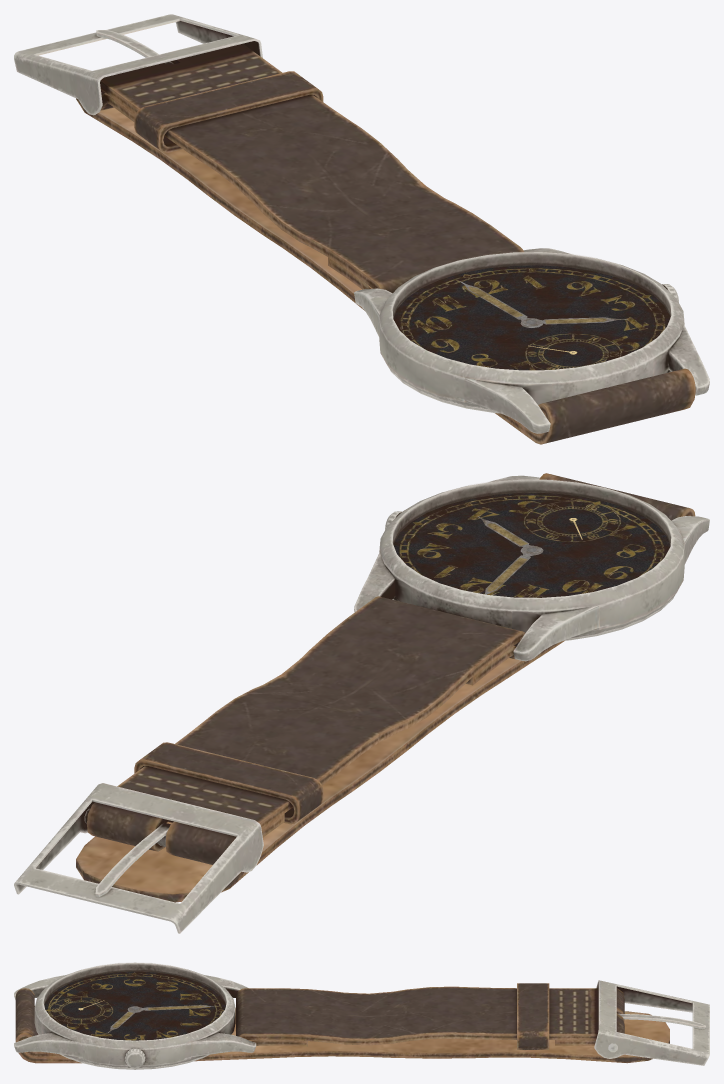
Rendered from vintage-leather-watch.glb.
3 views of the same model, one above another, from view 1: azimuth 30°, elevation 25°; view 2: azimuth 150°, elevation 25°; view 3: azimuth 270°, elevation 25° (orthographic). The views are drawn at different scales.
Visible parts, largest first — view 1: strap1_r_low, body_r_low, strap2_r_low, holder1_r_low; view 2: strap1_r_low, body_r_low, holder1_r_low, strap2_r_low; view 3: strap1_r_low, body_r_low, strap2_r_low, holder1_r_low, crown_r_low, minute_hand_r_low, hour_hand_r_low.
Boxes of the visible parts, bbox=[...] form: strap1_r_low: bbox=[100, 43, 523, 293]; body_r_low: bbox=[354, 248, 709, 433]; strap2_r_low: bbox=[76, 98, 695, 444]; holder1_r_low: bbox=[14, 14, 262, 115]; strap1_r_low: bbox=[87, 596, 525, 864]; body_r_low: bbox=[354, 475, 709, 661]; holder1_r_low: bbox=[14, 783, 263, 933]; strap2_r_low: bbox=[76, 473, 695, 902]; strap1_r_low: bbox=[236, 983, 624, 1049]; body_r_low: bbox=[14, 962, 256, 1069]; strap2_r_low: bbox=[15, 988, 669, 1063]; holder1_r_low: bbox=[594, 980, 709, 1065]; crown_r_low: bbox=[124, 1048, 145, 1068]; minute_hand_r_low: bbox=[127, 1005, 215, 1012]; hour_hand_r_low: bbox=[108, 1006, 141, 1032].
Bounding box in the file's own units: 0.1816 × 0.0393 × 0.6074.
Materials: 1 (1 with a texture image).
